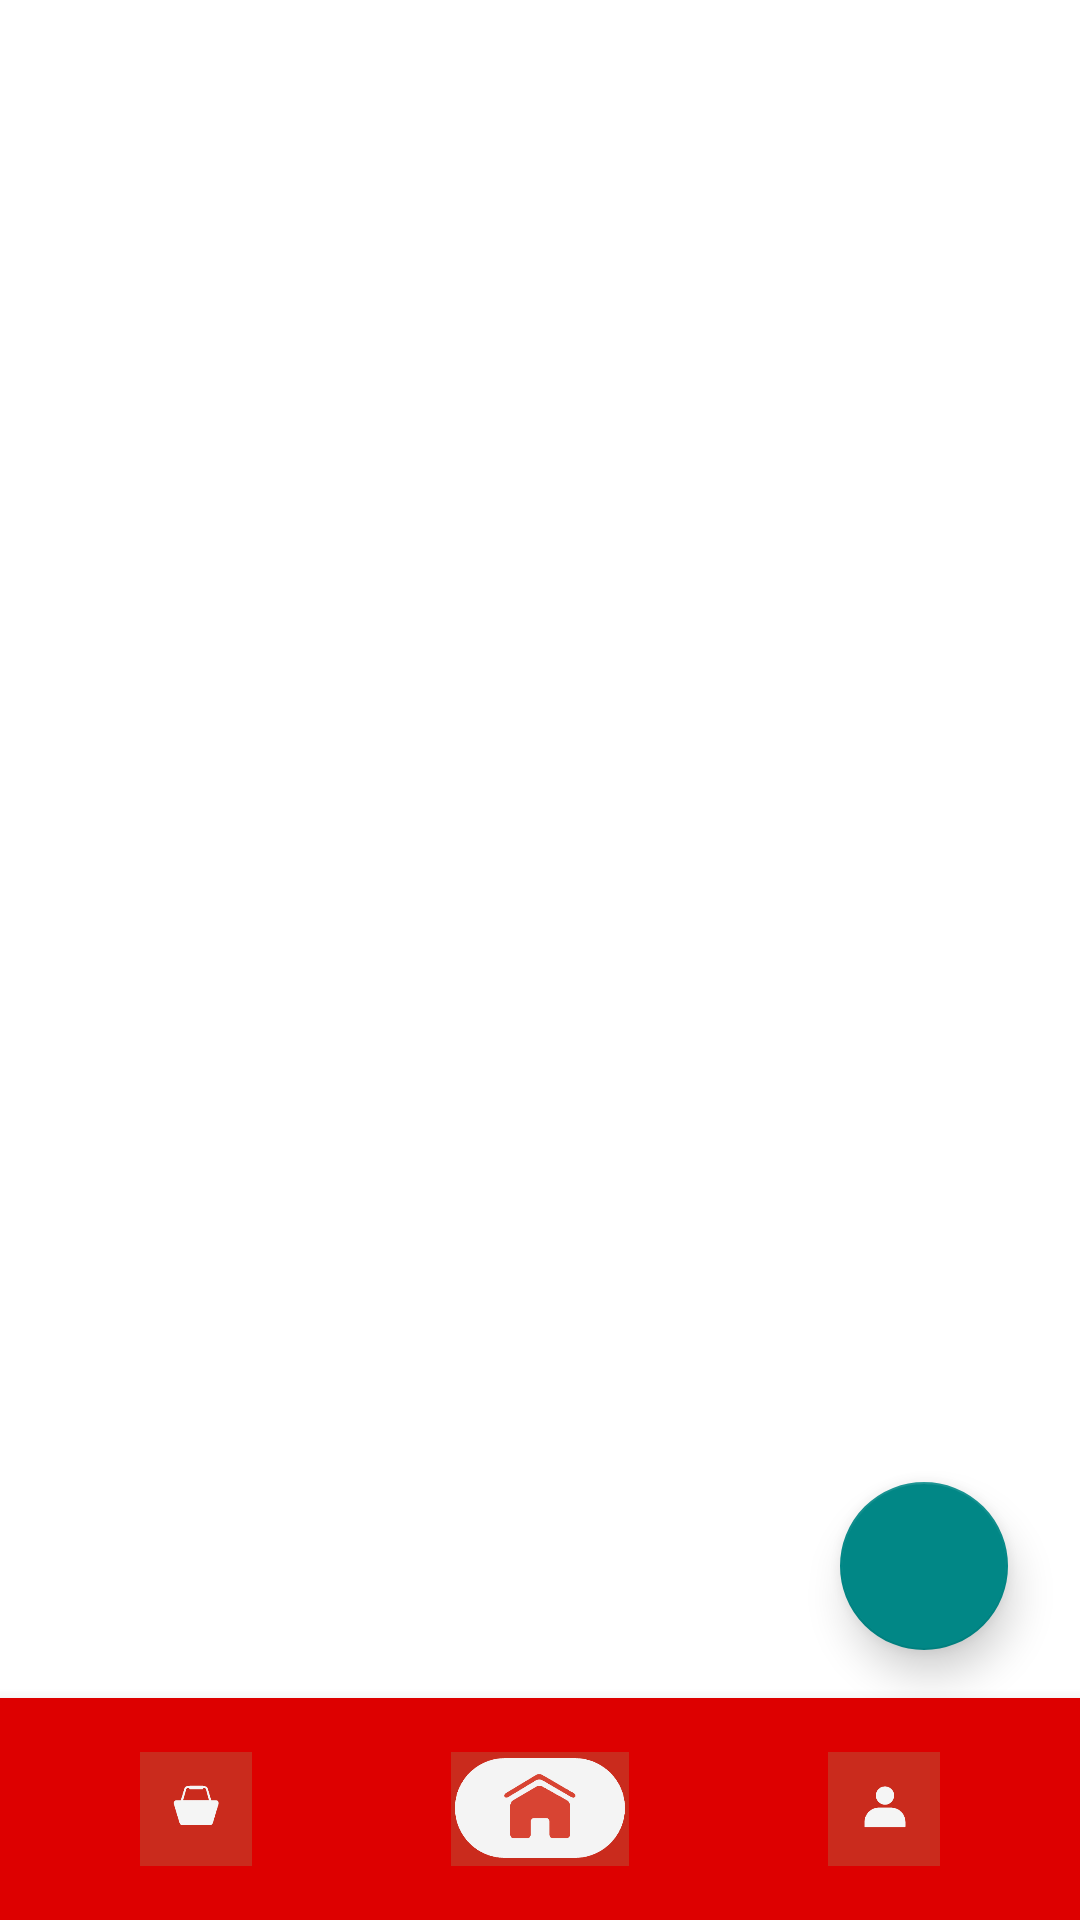

Where icons sit on this 1080x1920 app screen, as (x1, y1, x2, y2):
Home: (451, 1752, 629, 1866)
